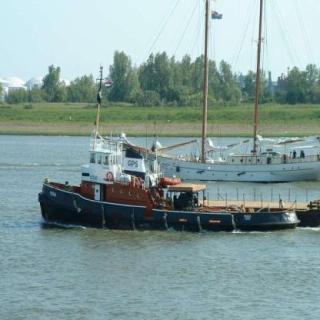Tug Boat: (37, 0, 316, 228)
